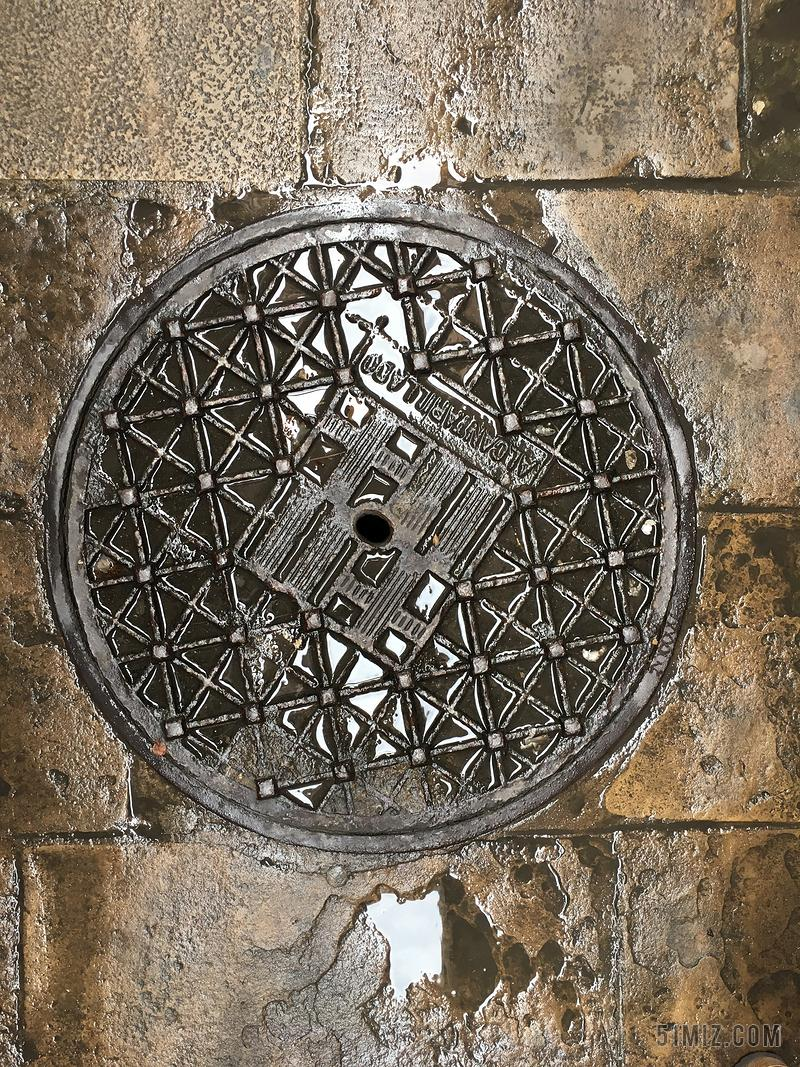wellcover: (29, 198, 697, 880)
